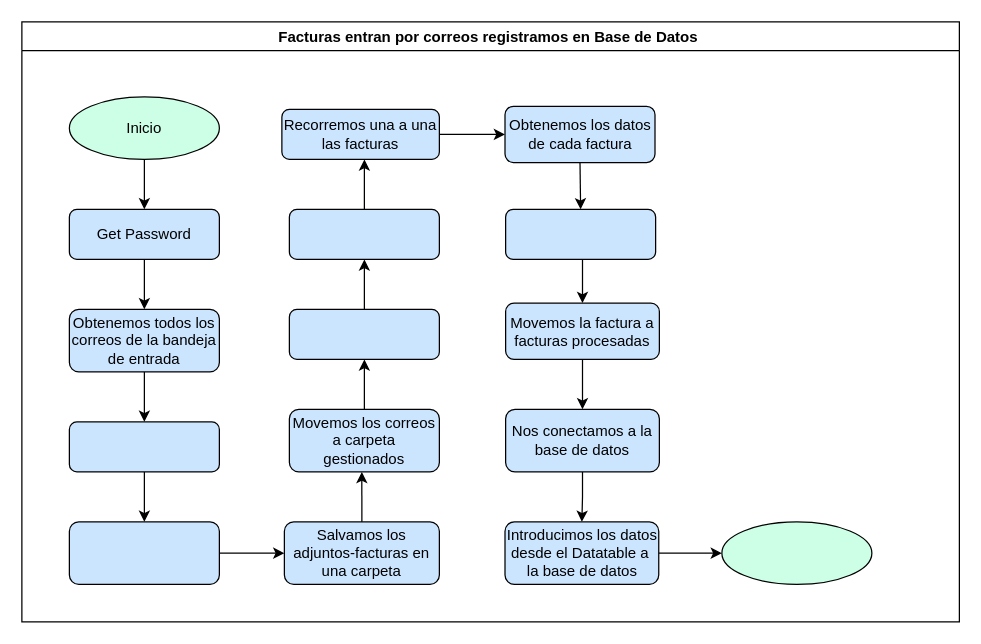
The diagram is 981 pixels wide and 644 high, and some of its shapes have lost their labels. The centre of each missing label's shape, as x and y in pixels:
Añadimos los datos al Datatable: (580,233)
Creamos un Datatable: (363,333)
Fin: (796,552)
Obtenemos todas las facturas del directorio: (363,233)
Recorremos los correos y los filtramos: (143,446)
Seleccionamos los que contienen "factura" en el asunto: (143,552)
